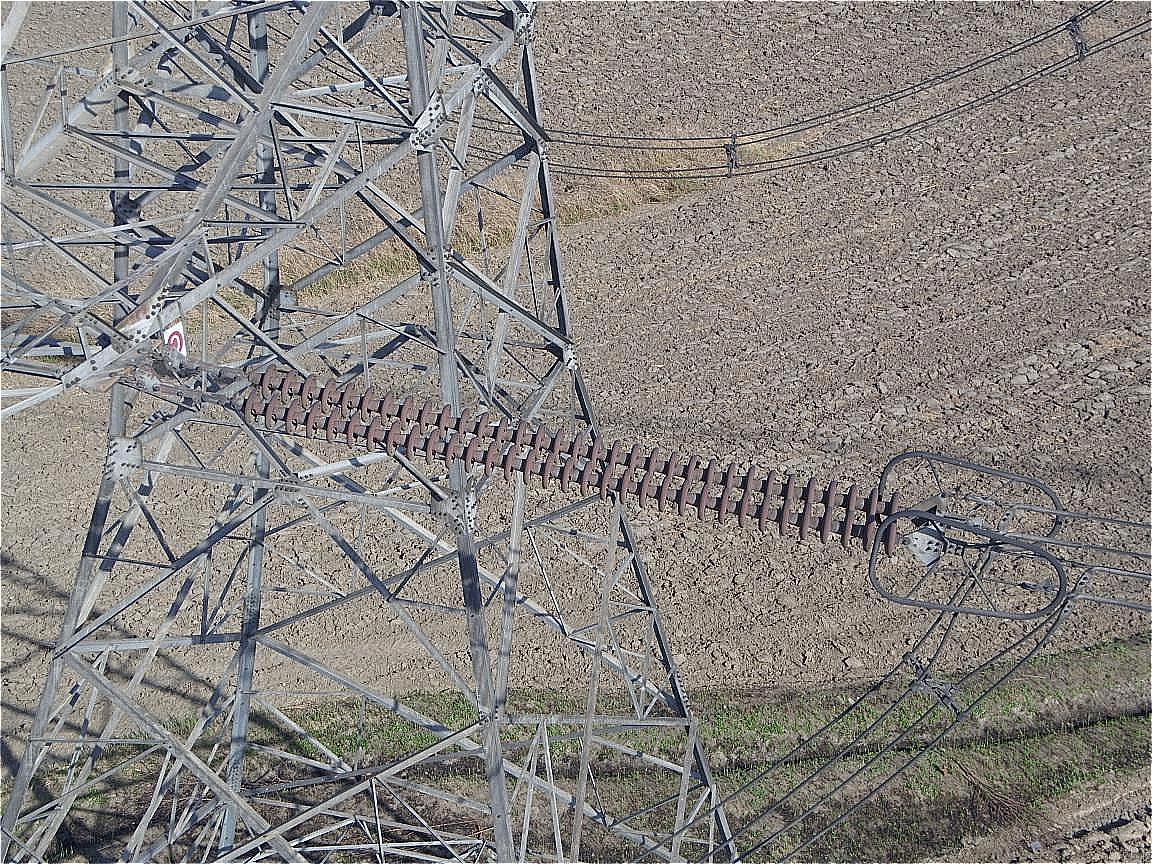insultor1: (218, 364, 919, 560)
